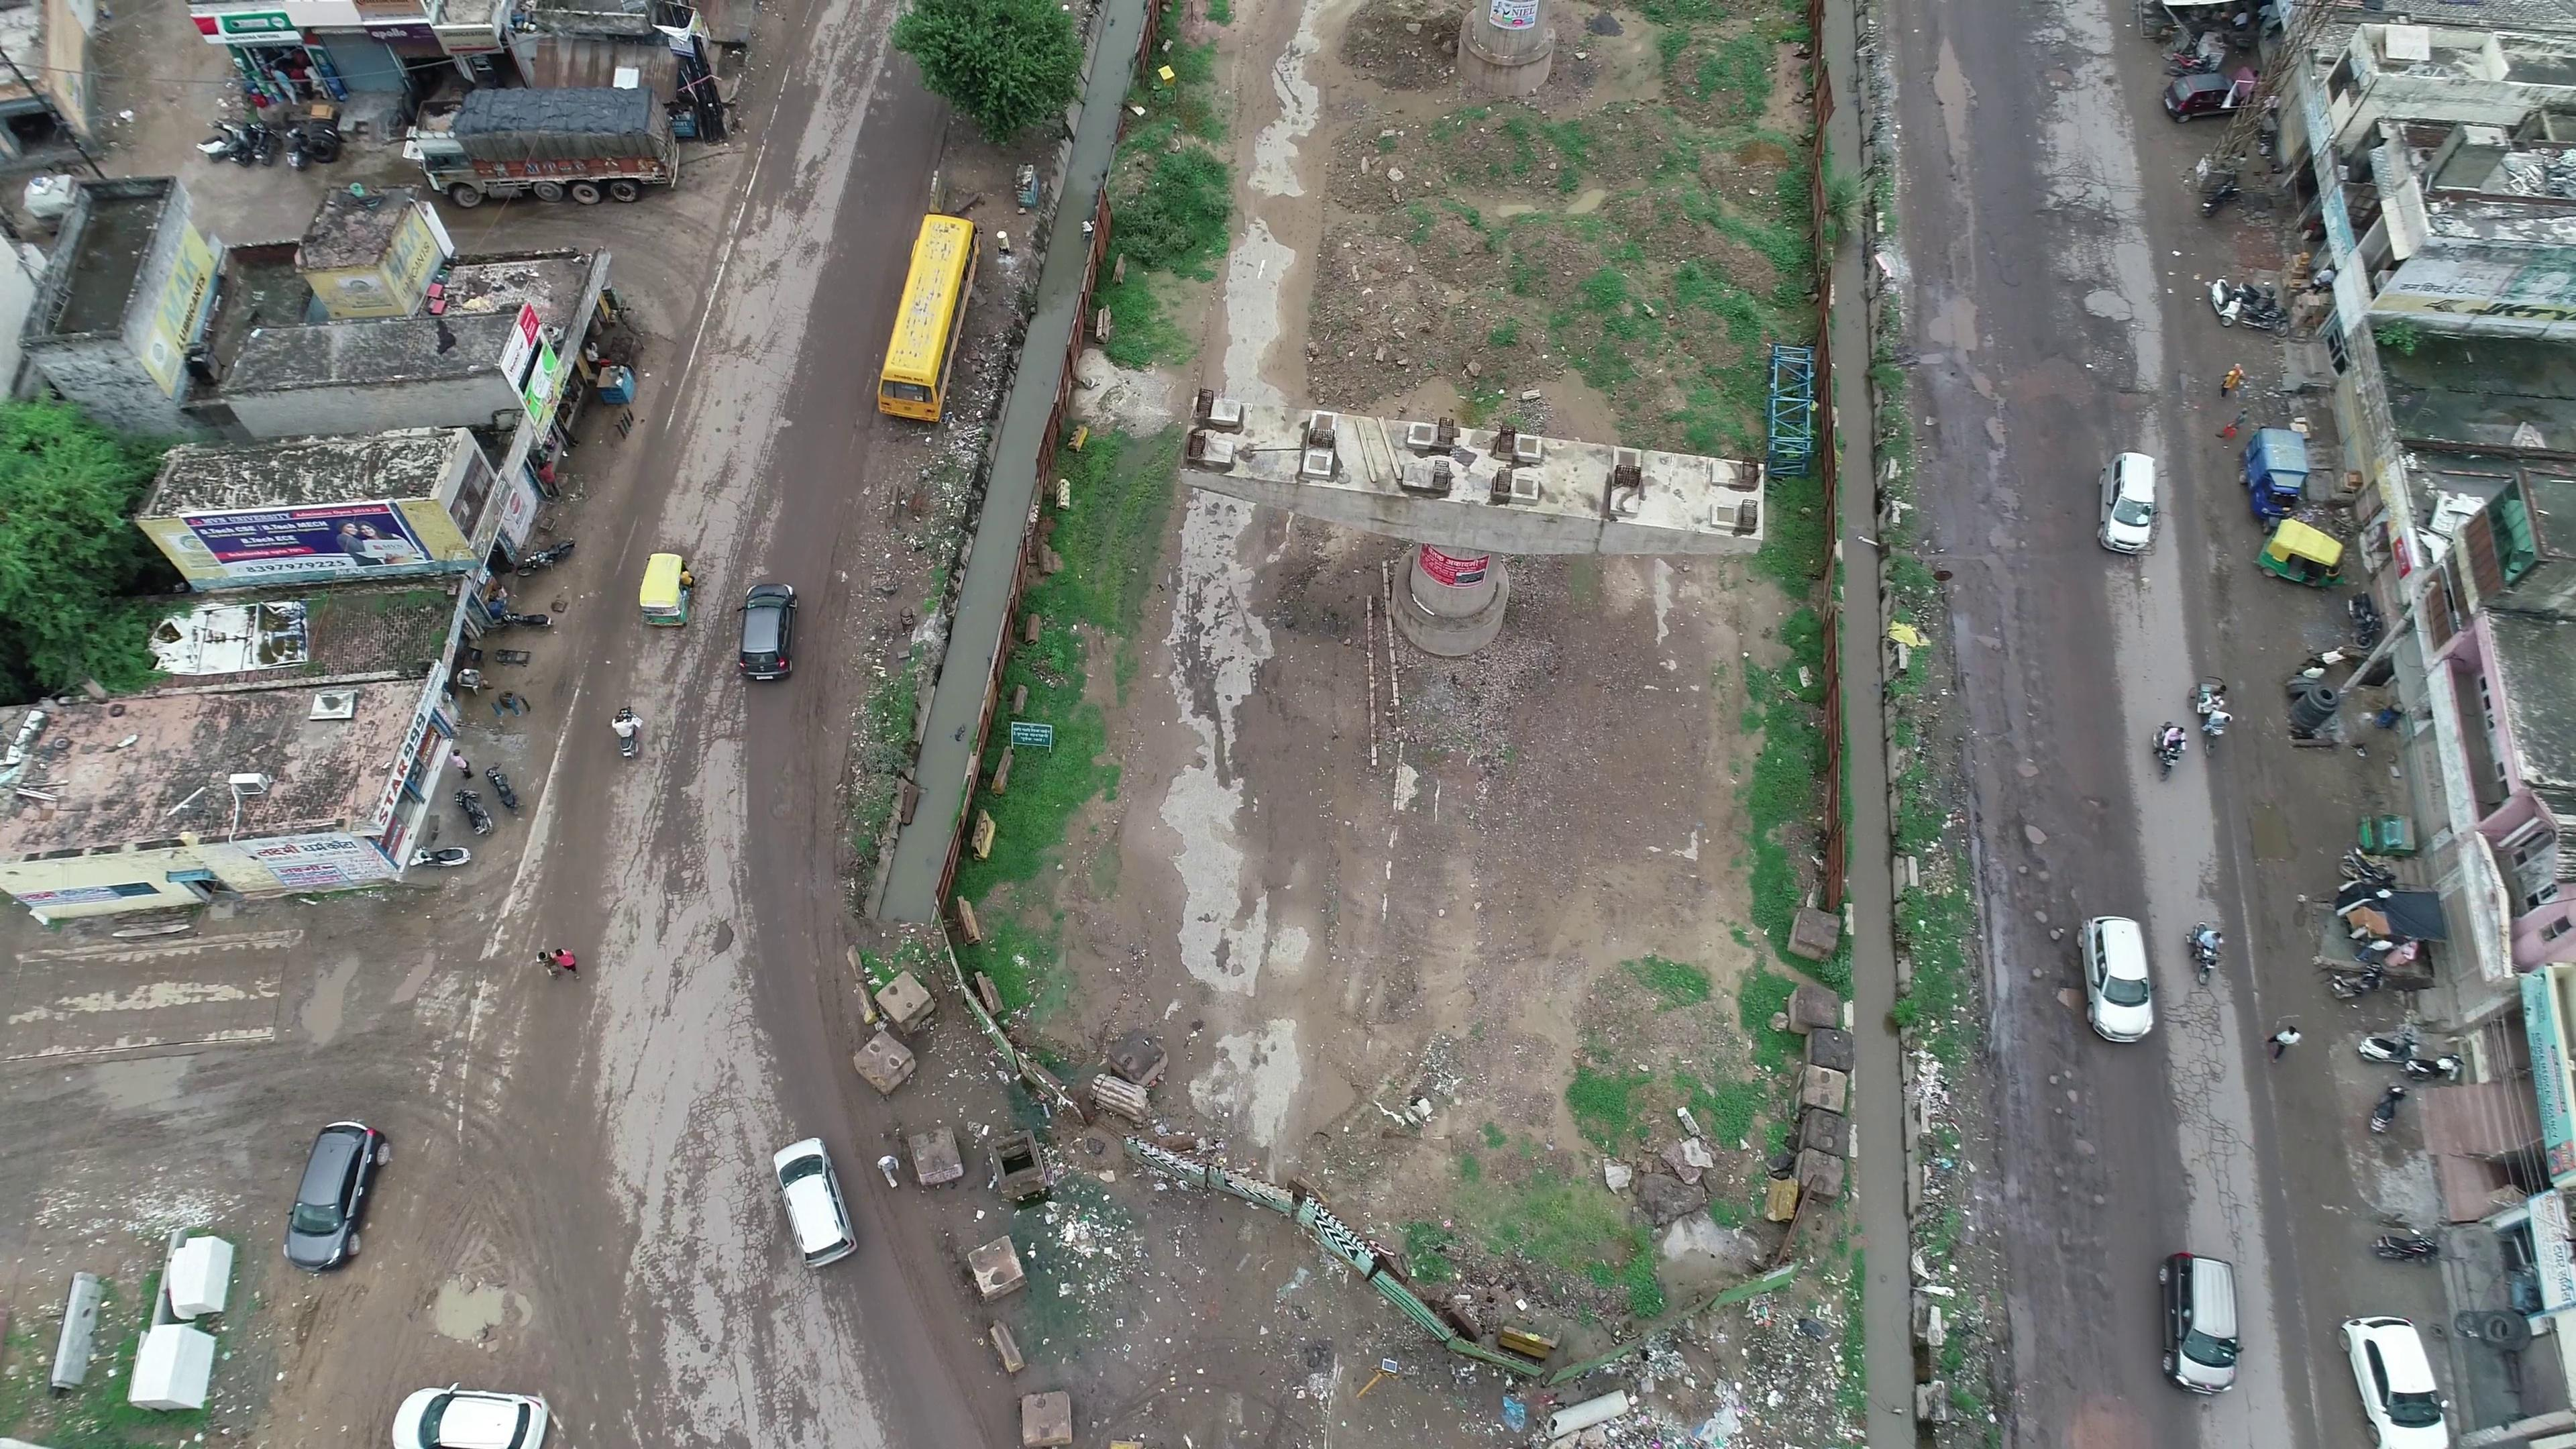Alligator_cracks: (646, 632, 727, 899), (2033, 145, 2123, 283)
Potholes: (2001, 803, 2084, 1028)
